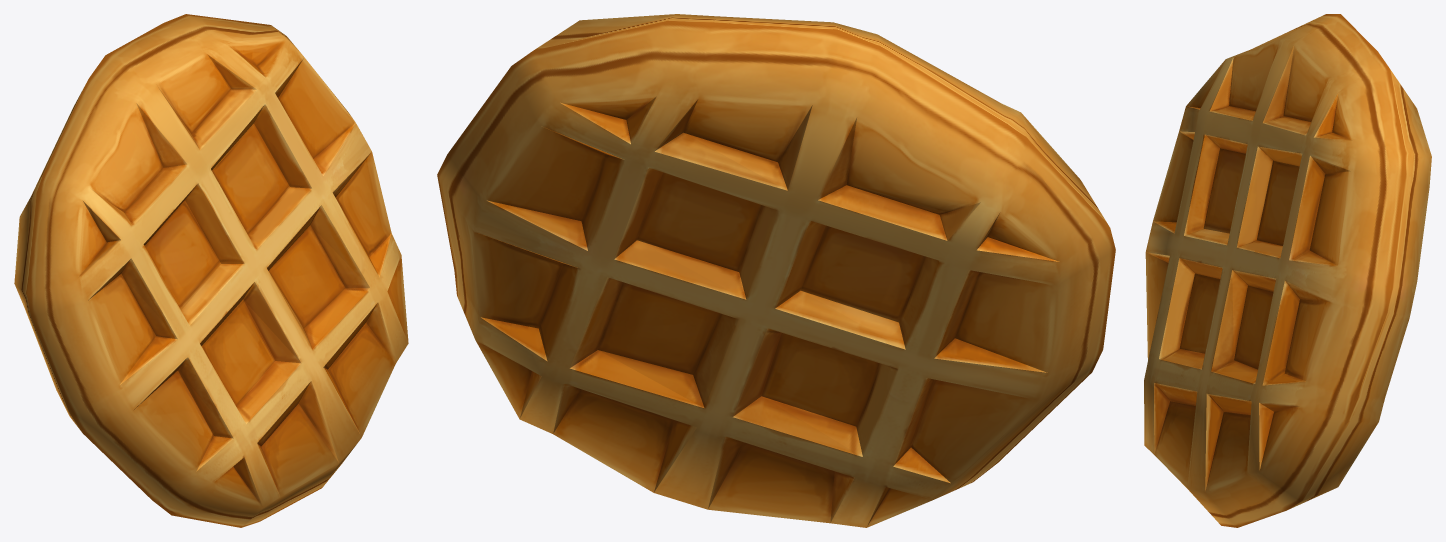
File: waffle-low-poly.fbx
3 views of the same model, side by side, from view 1: azimuth 30°, elevation 25°; view 2: azimuth 150°, elevation 25°; view 3: azimuth 270°, elevation 25° (orthographic). The views are drawn at different scales.
Parts seen in each view (by area): view 1: taco; view 2: taco; view 3: taco.
Boxes of the visible parts, x1,y1,x2,y2 form: taco: [14, 14, 408, 527]; taco: [437, 14, 1115, 527]; taco: [1144, 14, 1431, 527].
Size of the model in its own units: 14.64 by 14.26 by 8.53.
1 material, 1 textured.
